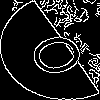O: (24, 25, 100, 81)
